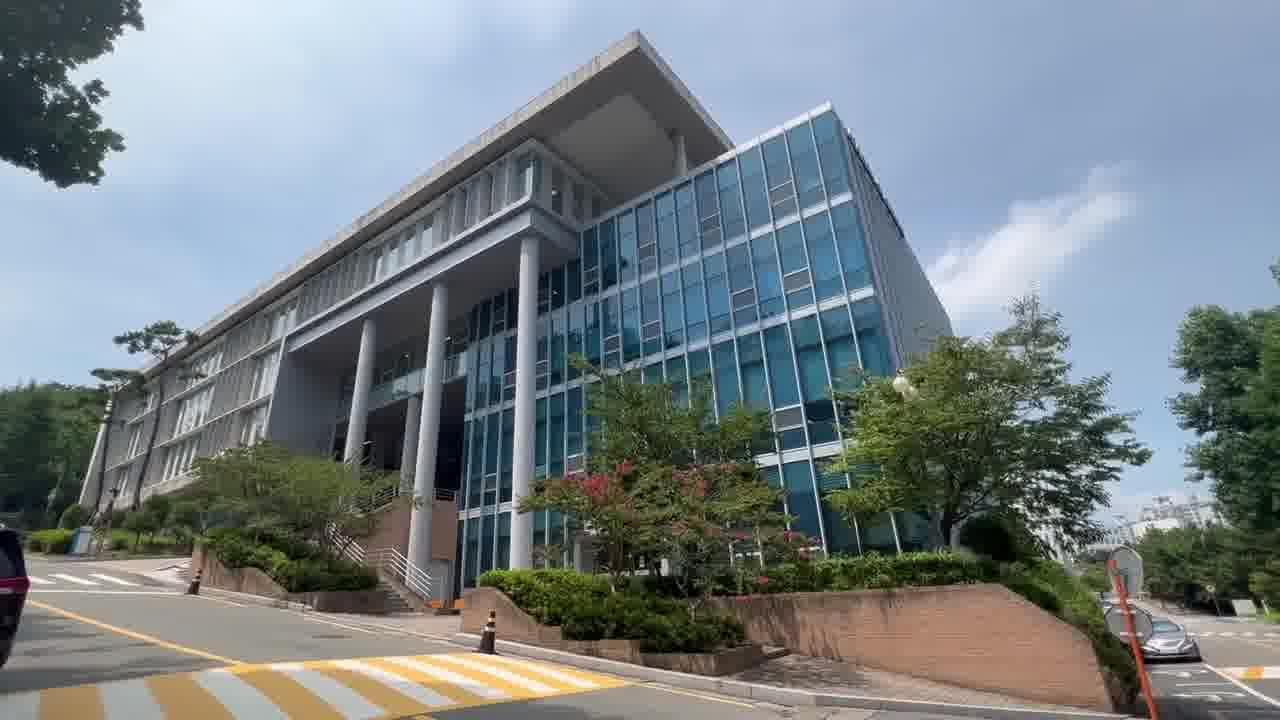building: (119, 51, 899, 423)
